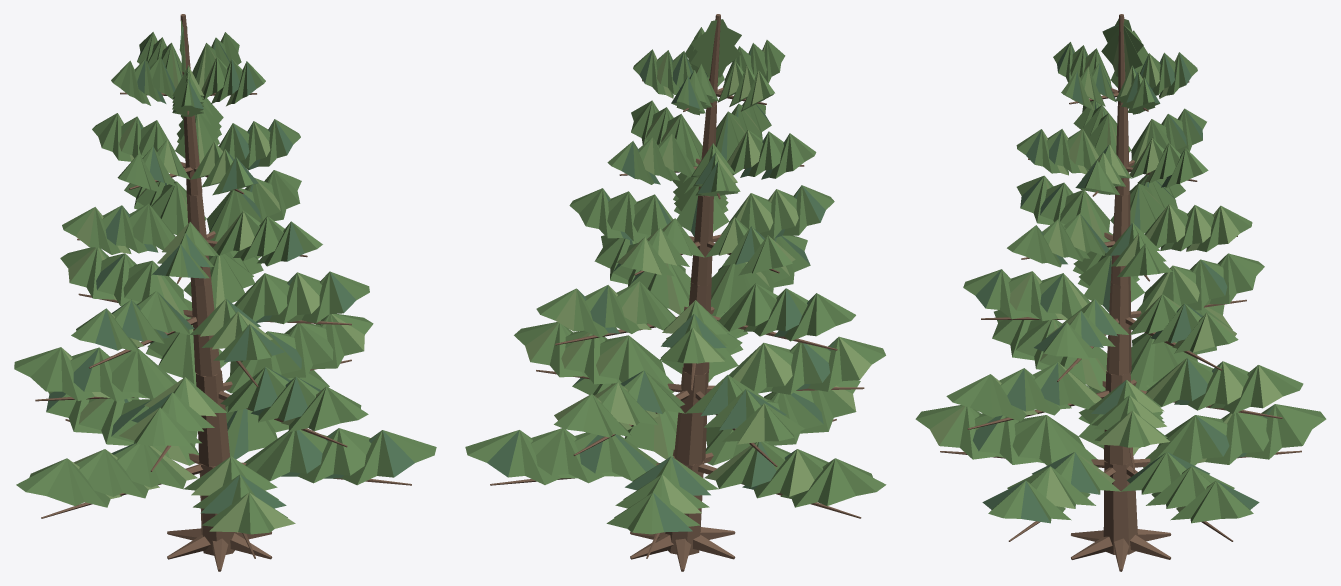
Rendered from PineBranchedA.fbx.
The picture shows the model from 3 angles, left to right: view 1: azimuth 30°, elevation 25°; view 2: azimuth 150°, elevation 25°; view 3: azimuth 270°, elevation 25°; orthographic projection. The views are drawn at different scales.
Visible parts, largest first — view 1: PineBranchedAVisual; view 2: PineBranchedAVisual; view 3: PineBranchedAVisual.
Boxes of the visible parts, x1,y1,x2,y2 form: PineBranchedAVisual: [14, 14, 436, 571]; PineBranchedAVisual: [465, 14, 886, 571]; PineBranchedAVisual: [915, 14, 1326, 571].
Bounding box in the file's own units: 3.72 × 5.41 × 3.89.
